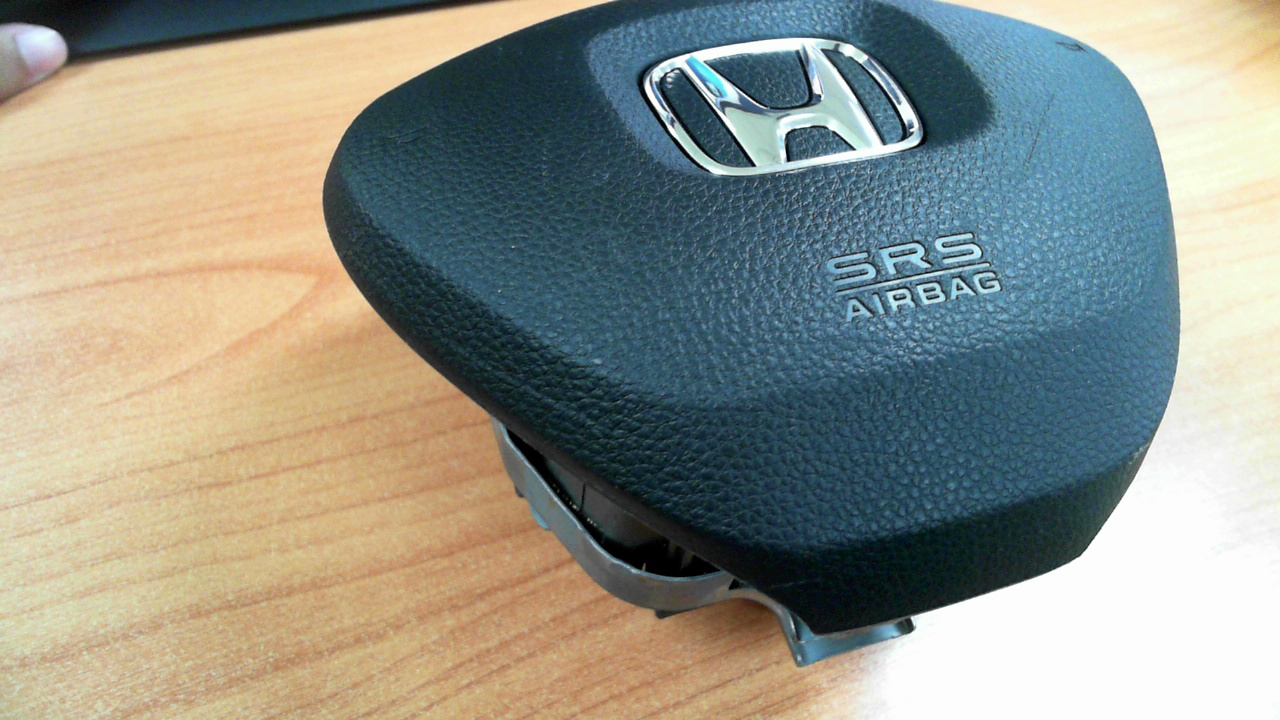Airbag: (321, 0, 1182, 668)
Honda: (637, 36, 926, 177)
